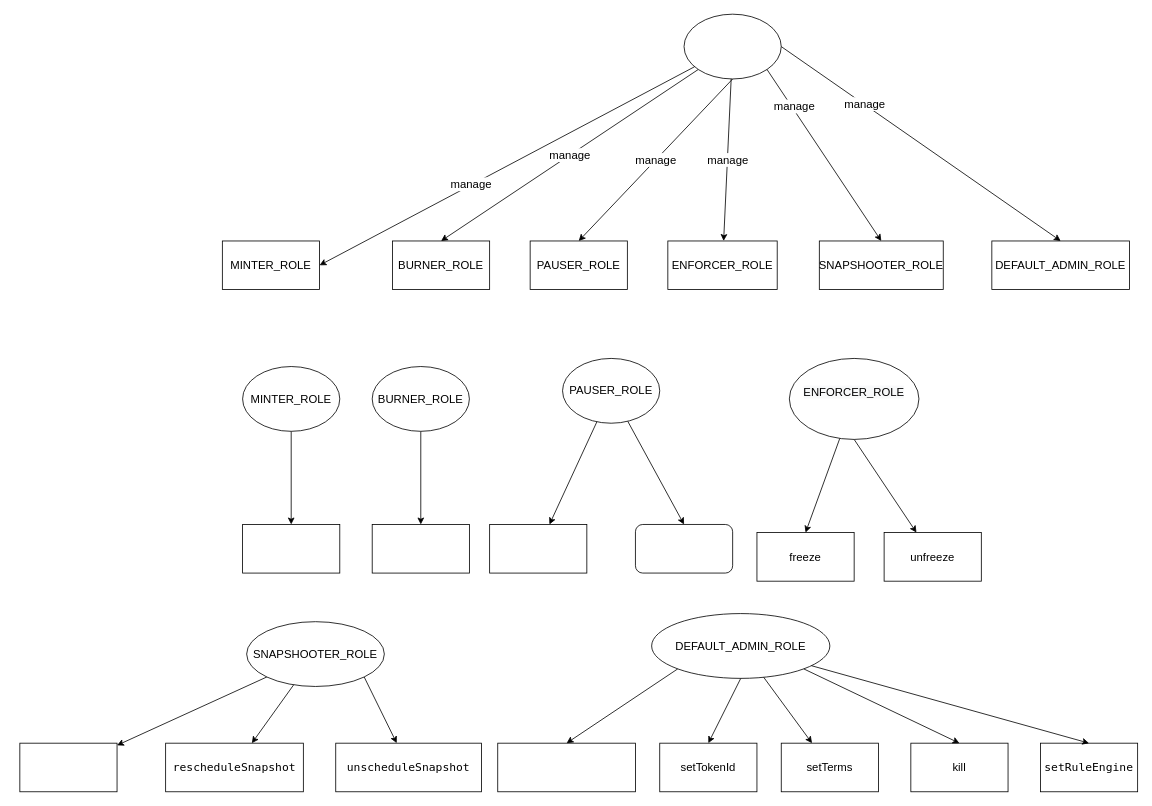
The diagram is 1152 pixels wide and 806 high, and some of its shapes have lost their labels. The box of each missing label's shape, as (x1, y1, x2, y2) in pixels:
burnFrom: (371, 524, 469, 573)
mint: (242, 524, 340, 573)
owner: (683, 13, 781, 79)
pause: (489, 524, 587, 573)
scheduleSnapshot: (19, 742, 117, 792)
setTrustedForwarder: (497, 742, 635, 792)
unpause: (635, 524, 733, 573)
